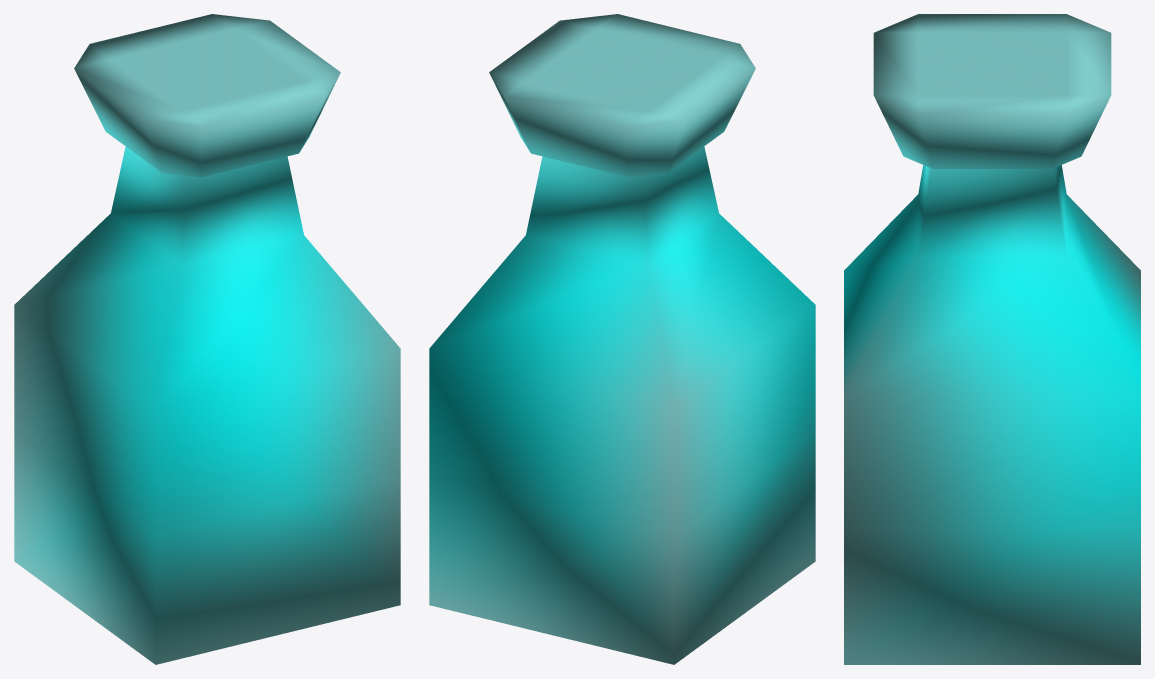
Rendered from bottle-3.glb.
3 renders of one model, left to right at view 1: azimuth 30°, elevation 25°; view 2: azimuth 150°, elevation 25°; view 3: azimuth 270°, elevation 25°, orthographic. The views are drawn at different scales.
Parts seen in each view (by area): view 1: Bottle3; view 2: Bottle3; view 3: Bottle3.
Part boxes in pixels (x1=…): Bottle3: x1=14, y1=14, x2=400, y2=664; Bottle3: x1=429, y1=14, x2=815, y2=664; Bottle3: x1=844, y1=14, x2=1140, y2=664.
Bounding box in the file's own units: 0.2 × 0.4 × 0.2.
Materials: 1 (1 with a texture image).
